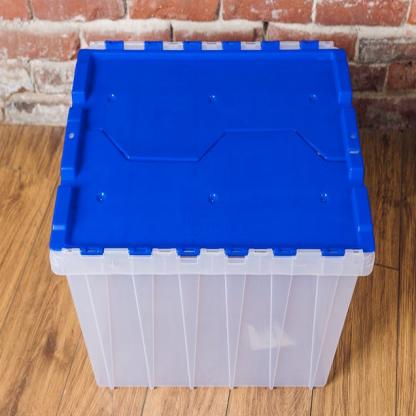plastic_box: (50, 15, 376, 396)
